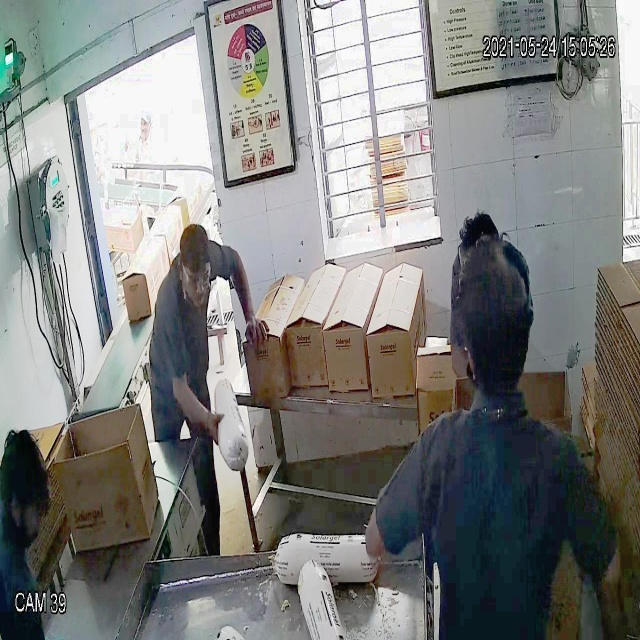Gafas: (180, 264, 212, 292)
